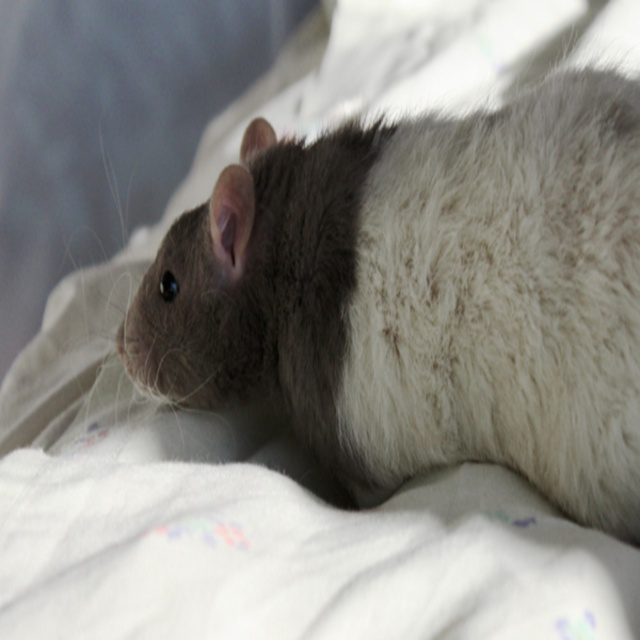Mouse: (66, 65, 639, 549)
